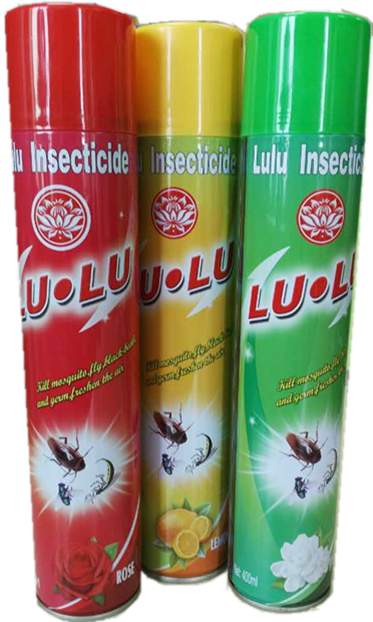Insecticide: (225, 8, 373, 618), (3, 1, 144, 622), (127, 15, 247, 589)
